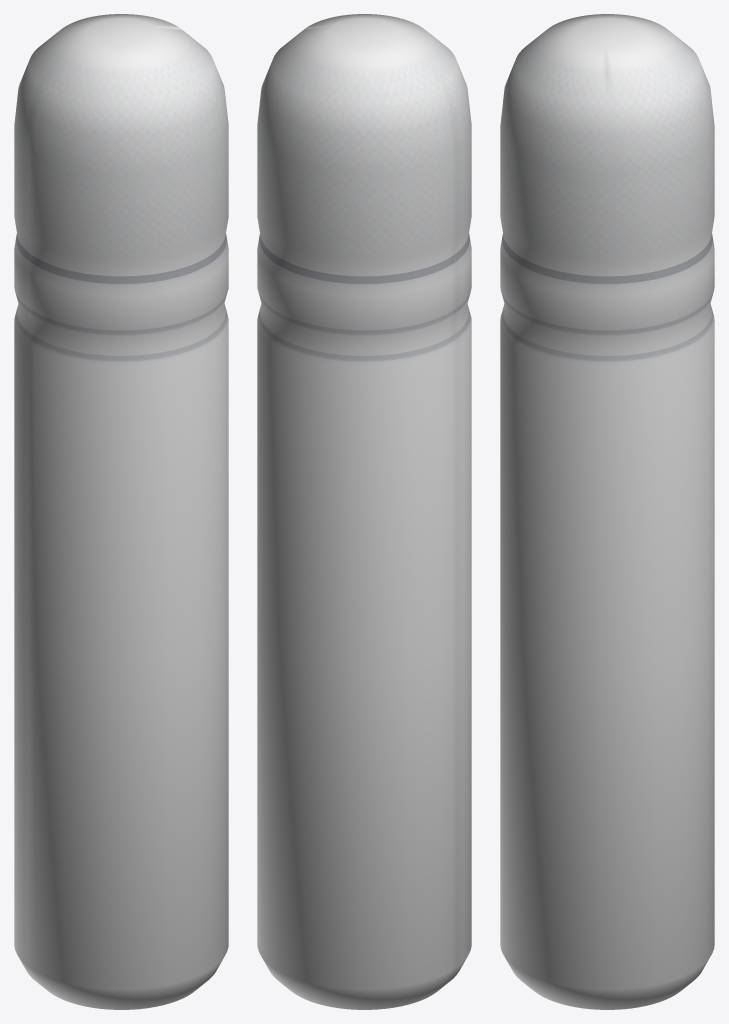
Rendered from neumann-km-184.glb.
3 renders of one model, left to right at view 1: azimuth 30°, elevation 25°; view 2: azimuth 150°, elevation 25°; view 3: azimuth 270°, elevation 25°, orthographic.
Visible parts, largest first — view 1: neumann-km-184-body; view 2: neumann-km-184-body; view 3: neumann-km-184-body.
Boxes of the visible parts, <box> form: neumann-km-184-body: <box>14,14,228,1009</box>; neumann-km-184-body: <box>257,14,471,1009</box>; neumann-km-184-body: <box>500,14,714,1009</box>.
Size of the model in its own units: 0.022 by 0.107 by 0.022.
Materials: 1 (1 with a texture image).
